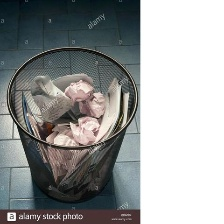book: (26, 68, 71, 121), (93, 74, 127, 142), (65, 109, 103, 145), (76, 87, 112, 121), (62, 74, 95, 104)
